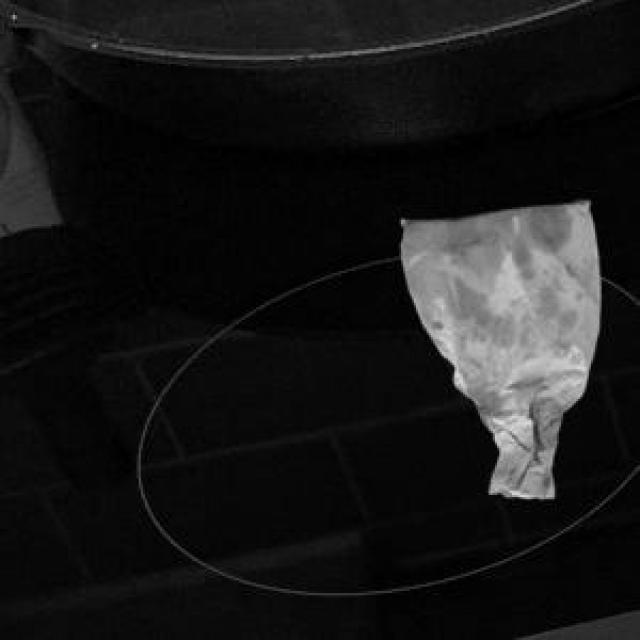paper: (397, 197, 595, 495)
